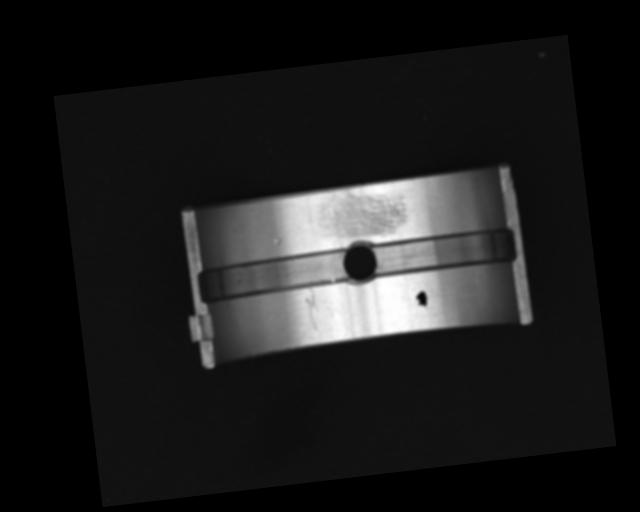blot: (413, 289, 430, 312)
bruise: (272, 236, 283, 246)
gap: (198, 245, 352, 305), (369, 226, 517, 279)
hole: (339, 239, 379, 287)
nick: (302, 287, 321, 333)
scratch: (312, 182, 410, 242)
